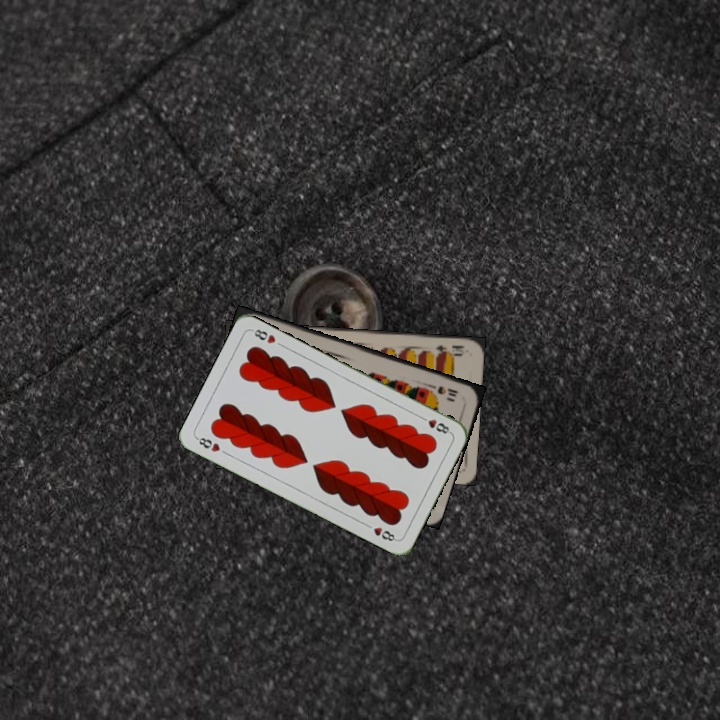E10: (432, 341, 467, 359)
H8: (415, 412, 453, 436), (193, 433, 223, 455)
S10: (426, 381, 461, 399)
